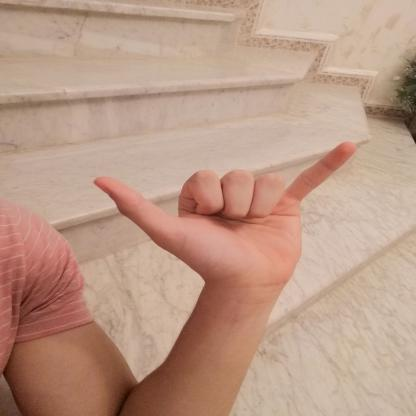YA: (73, 129, 374, 297)
